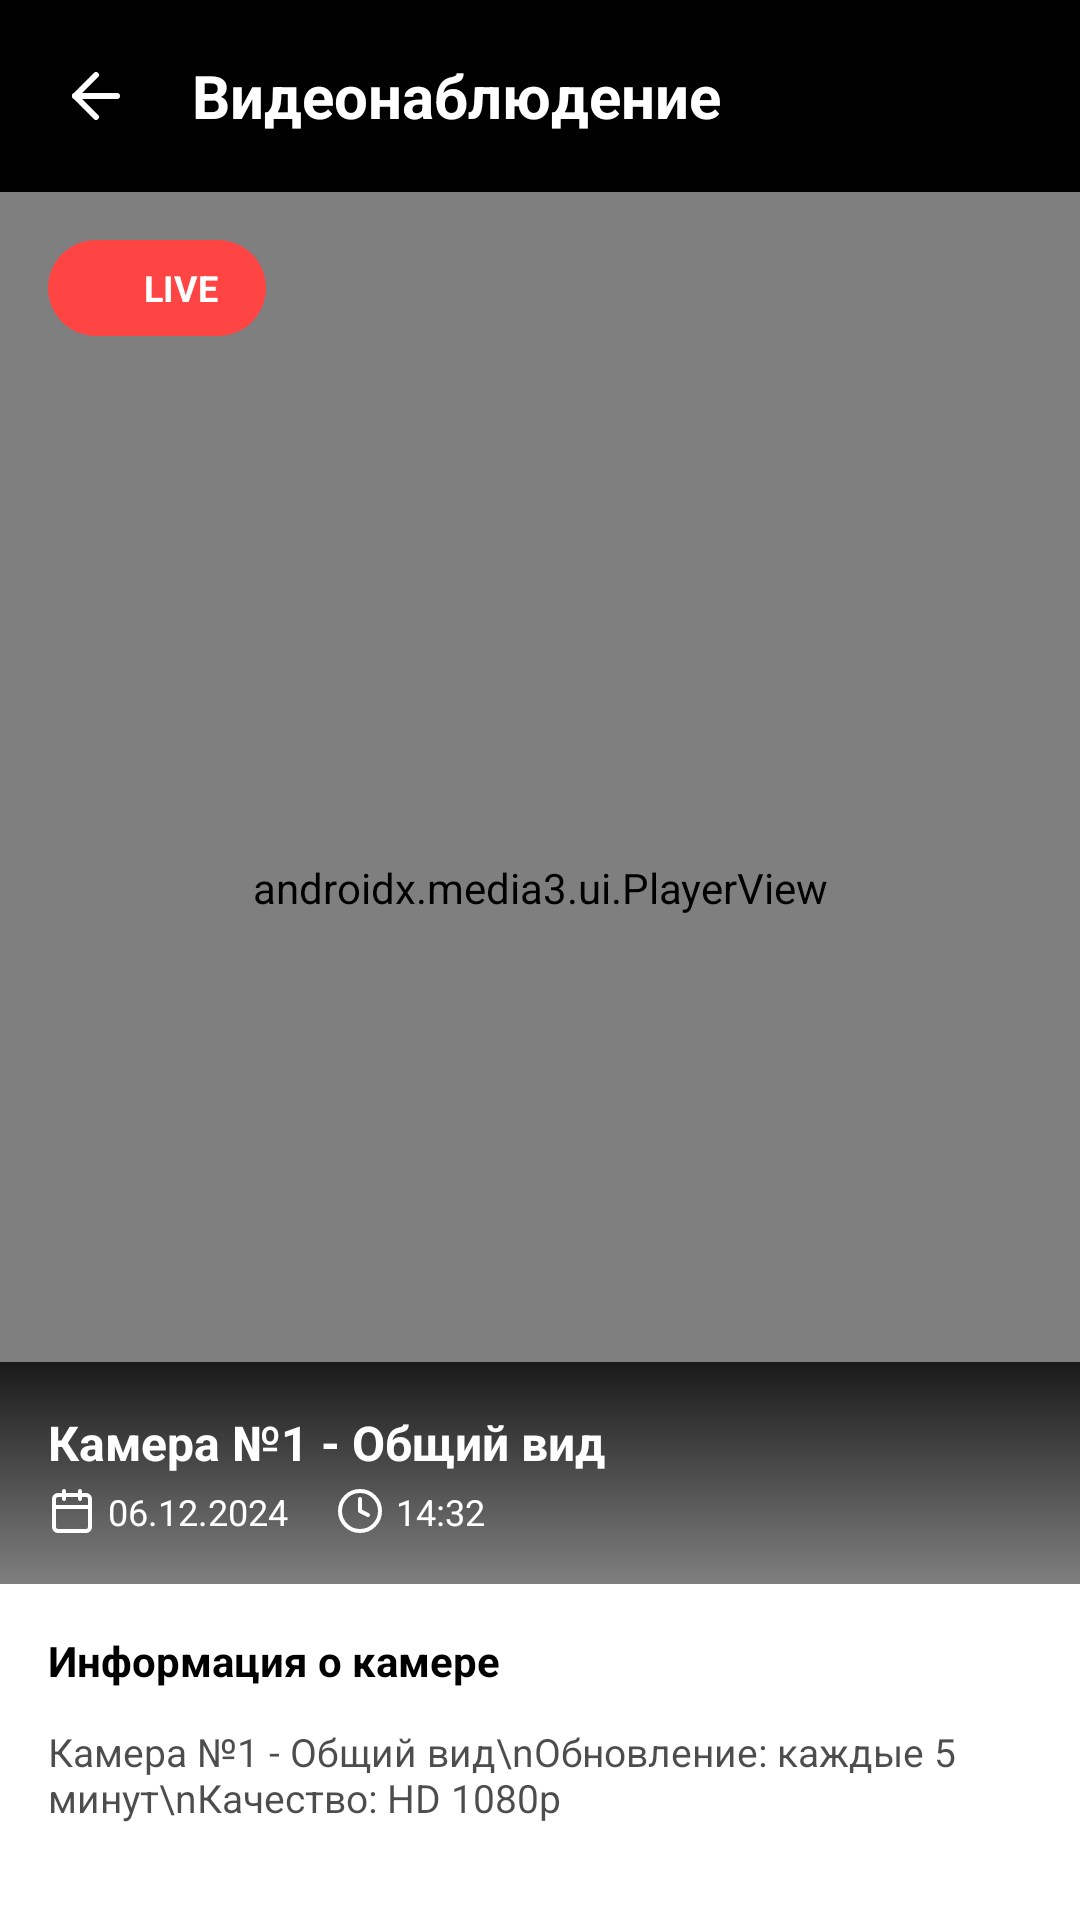

Named icons in this screenshot (1080w x 1920h) and their centers, point (x, y):
Время: point (360, 1512)
Дата: point (72, 1512)
Назад: point (96, 96)
